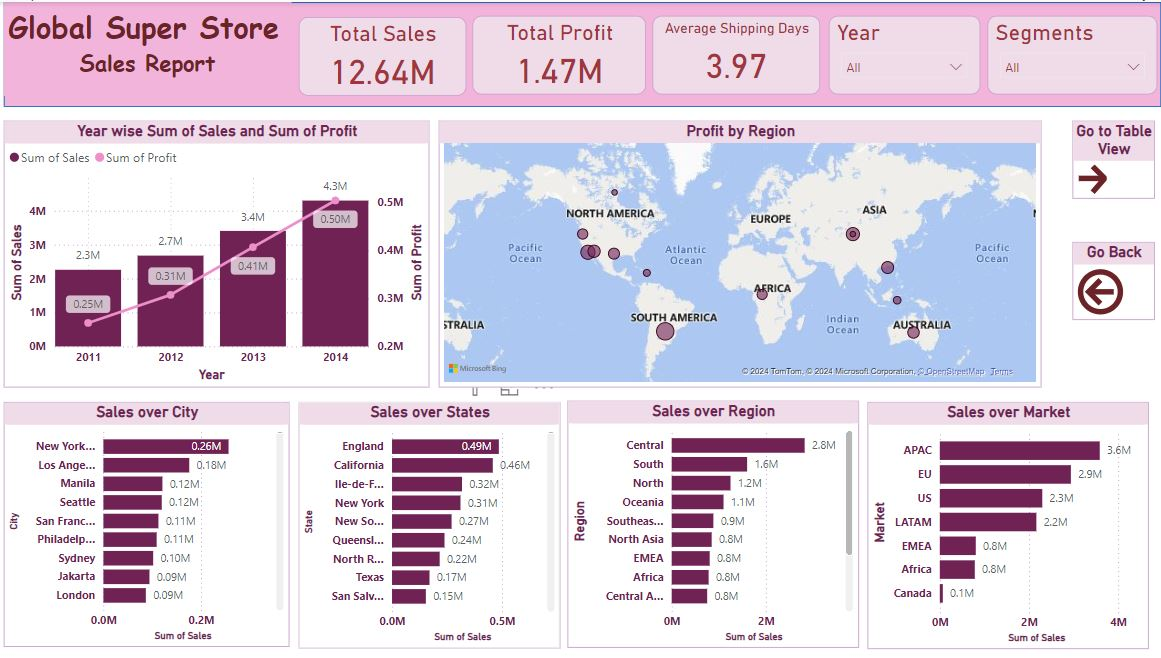

Layout of this report page (visuals, bound fields, positions):
{"tool":"powerbi","page":{"name":"Sales Report","canvas":[1280,720],"ordinal":1},"visuals":[{"type":"shape","box":[9.6,0,1270.7,115.3],"z":0},{"type":"textbox","box":[9.6,0,315.6,102.9],"z":1000},{"type":"card","title":"Total Sales","fields":{"Values":["Orders.Total sales"]},"box":[333.4,16.5,183.9,86.4],"z":2000},{"type":"card","title":"Total Profit","fields":{"Values":["Orders.Total Profit"]},"box":[524.2,15.1,190.7,86.4],"z":3000},{"type":"card","title":"Average Shipping Days","fields":{"Values":["Avg(Orders.DaysTakenToShip)"]},"box":[721.8,15.1,183.9,86.4],"z":4000},{"type":"slicer","title":"Year","fields":{"Values":["Orders.Order Date.Variation.Date Hierarchy.Year"]},"box":[915.3,15.1,166,86.4],"z":5000},{"type":"lineClusteredColumnComboChart","title":"Year wise Sum of Sales and Sum of Profit","fields":{"Y":["Sum(Orders.Sales)"],"Y2":["Sum(Orders.Profit)"],"Category":["Orders.Order Date.Variation.Date Hierarchy.Year"]},"box":[9.7,130.4,467.4,292.7],"z":6000},{"type":"slicer","title":"Segments","fields":{"Values":["Orders.Region Hierarchy.Region","Orders.Region Hierarchy.Market","Orders.Region Hierarchy.Country"]},"box":[1089.5,15.1,186.6,86.4],"z":7000},{"type":"barChart","title":"Sales over City","fields":{"Y":["Sum(Orders.Sales)"],"Category":["Orders.City"]},"box":[9.7,439.1,313.7,269],"z":8000},{"type":"barChart","title":"Sales over States","fields":{"Y":["Sum(Orders.Sales)"],"Category":["Orders.State"]},"box":[333,439.1,287.1,270.2],"z":9000},{"type":"barChart","title":"Sales over Region","fields":{"Y":["Sum(Orders.Sales)"],"Category":["Orders.Region"]},"box":[628.6,437.9,319.7,271.4],"z":10000},{"type":"barChart","title":"Sales over Market","fields":{"Y":["Sum(Orders.Sales)"],"Category":["Orders.Market"]},"box":[957.9,439.1,308.8,271.4],"z":11000},{"type":"map","title":"Profit by Region","fields":{"Category":["Orders.Region"],"Size":["Orders.Total Profit"]},"box":[486.9,130.4,661.6,292.7],"z":12000},{"type":"actionButton","title":"Go to Table View","box":[1183.2,130.4,90.2,86],"z":13000},{"type":"actionButton","title":"Go Back","box":[1183.2,263.5,90.2,86],"z":14000}]}

Visuals, with their boxes in screenshot pixels (x1, y1, x2, y2), scaled from the page's 1280x720 canvas onto the 1161x658 screenshot:
shape: 9,0,1160,105
textbox: 9,0,295,94
"Total Sales" card: 302,15,469,94
"Total Profit" card: 475,14,648,93
"Average Shipping Days" card: 655,14,821,93
"Year" slicer: 830,14,981,93
"Year wise Sum of Sales and Sum of Profit" lineClusteredColumnComboChart: 9,119,433,387
"Segments" slicer: 988,14,1157,93
"Sales over City" barChart: 9,401,293,647
"Sales over States" barChart: 302,401,562,648
"Sales over Region" barChart: 570,400,860,648
"Sales over Market" barChart: 869,401,1149,649
"Profit by Region" map: 442,119,1042,387
"Go to Table View" actionButton: 1073,119,1155,198
"Go Back" actionButton: 1073,241,1155,319
